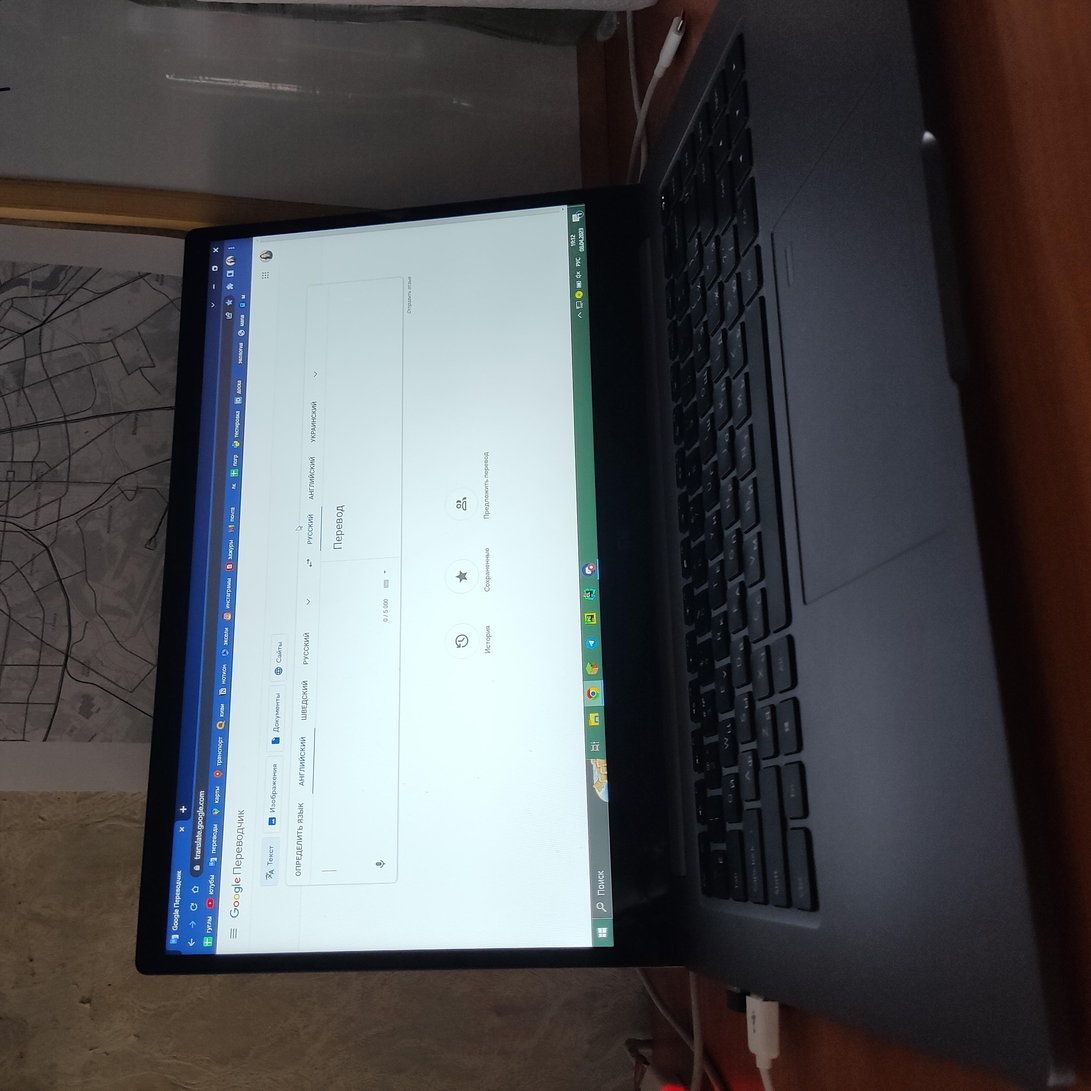monitor: (111, 125, 915, 695)
